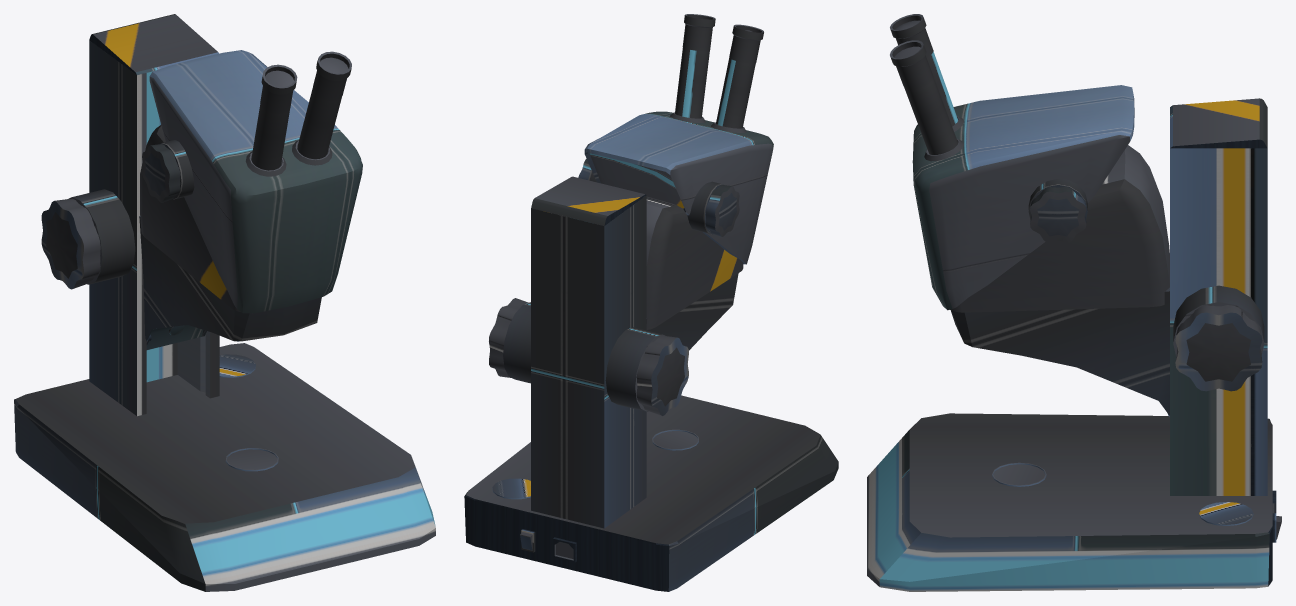
Rendered from Microscopio EZ4.fbx.
3 views of the same model, side by side, from view 1: azimuth 30°, elevation 25°; view 2: azimuth 150°, elevation 25°; view 3: azimuth 270°, elevation 25° (orthographic). The views are drawn at different scales.
Parts seen in each view (by area): view 1: Base, ParteMovil, Rueda_Enfoque, Lente Derecho, Lente Izquierdo, Rueda_Rango de zoom, Led de iluminacion diascopica Base; view 2: Base, ParteMovil, Rueda_Enfoque, Lente Derecho, Lente Izquierdo, Rueda_Rango de zoom, Led de iluminacion diascopica Base; view 3: Base, ParteMovil, Rueda_Enfoque, Lente Derecho, Rueda_Rango de zoom, Lente Izquierdo, Led de iluminacion diascopica Base.
Boxes of the visible parts, x1,y1,x2,y2 form: Base: (14,14,435,591); ParteMovil: (139,50,362,349); Rueda_Enfoque: (41,198,100,289); Lente Derecho: (292,51,351,165); Lente Izquierdo: (245,64,297,176); Rueda_Rango de zoom: (142,144,180,202); Led de iluminacion diascopica Base: (225,448,278,471); Base: (464,176,838,591); ParteMovil: (584,111,773,350); Rueda_Enfoque: (489,298,688,415); Lente Derecho: (670,14,715,122); Lente Izquierdo: (711,24,763,132); Rueda_Rango de zoom: (578,159,739,236); Led de iluminacion diascopica Base: (652,429,698,450); Base: (867,98,1281,591); ParteMovil: (912,85,1169,417); Rueda_Enfoque: (1175,305,1262,391); Lente Derecho: (890,40,963,161); Rueda_Rango de zoom: (1030,186,1086,242); Lente Izquierdo: (890,14,963,131); Led de iluminacion diascopica Base: (992,462,1046,486).
Bounding box in the file's own units: 18.32 × 34.12 × 25.55.
